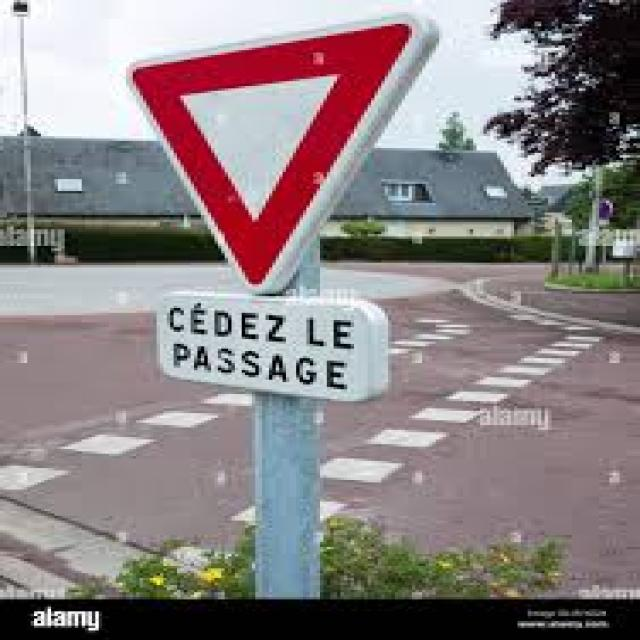Ceder-le-Passage: (117, 6, 436, 301)
